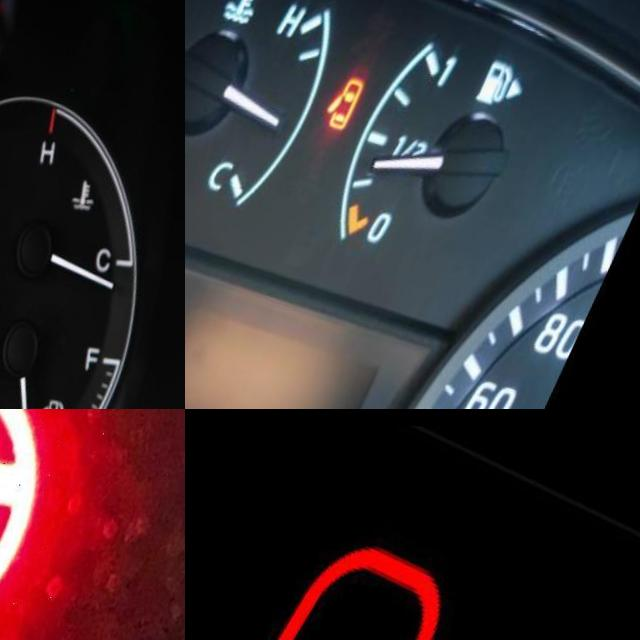Electronic Power Steering Warning: (0, 409, 71, 640)
